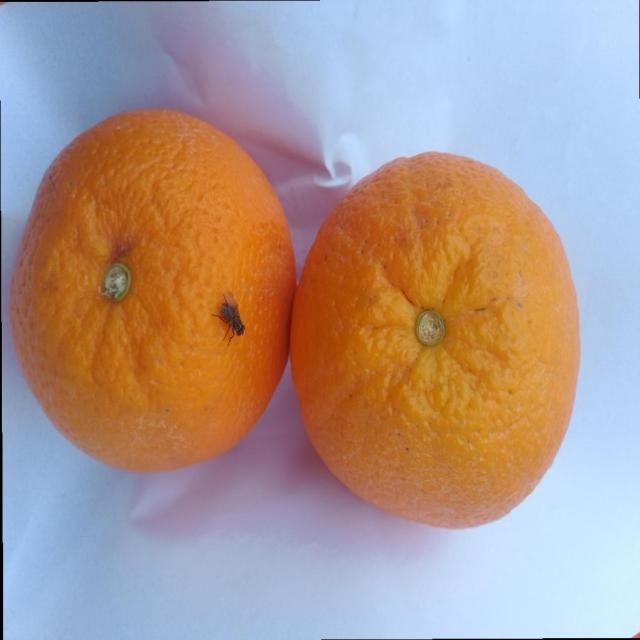agrume: (288, 150, 581, 530), (7, 106, 297, 474)
